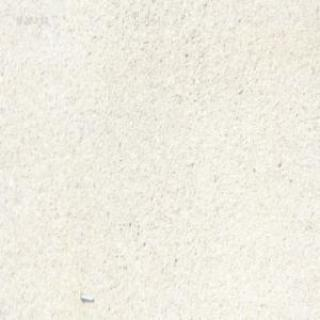Nailtrack_idkeyframe: (78, 292, 94, 302)
